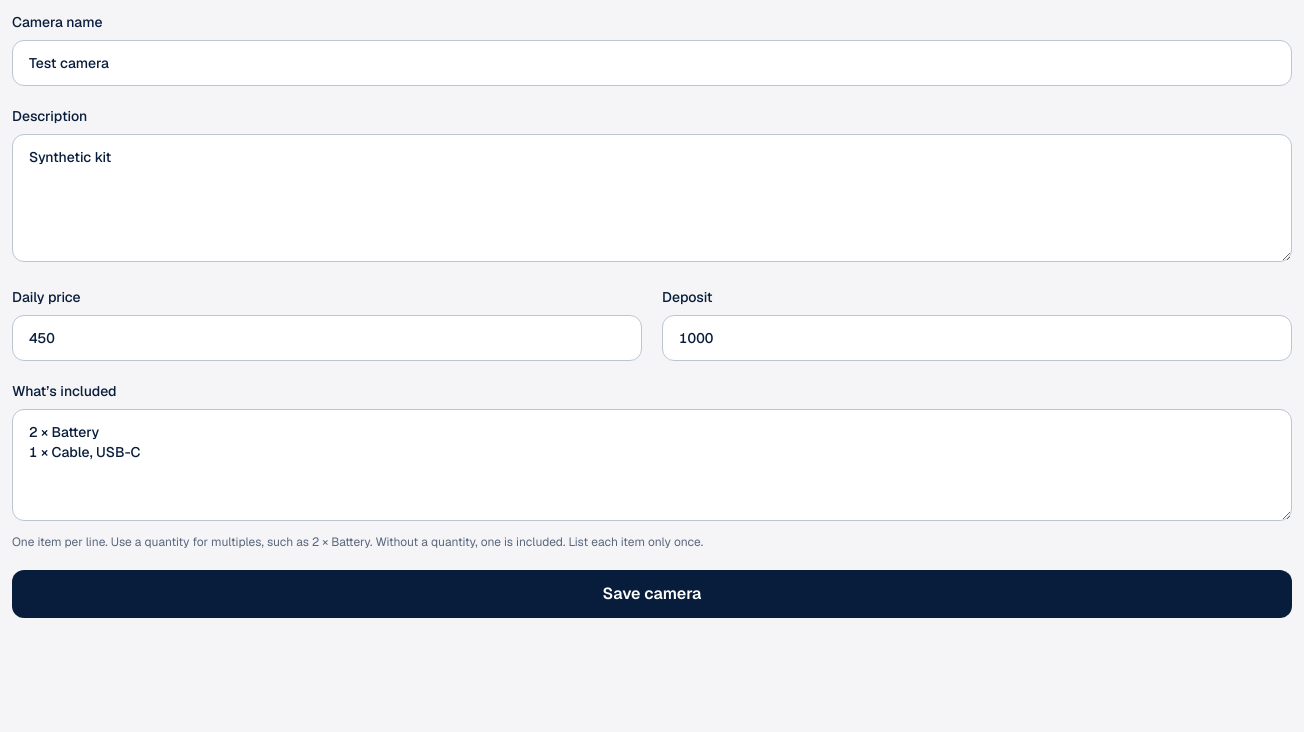
Test: preserves kit quantities through the real save action when only the price changes
Replace the text in the number field labelled "Daily price" with "500" at {"x": 327, "y": 338}, box [12,315,642,361]
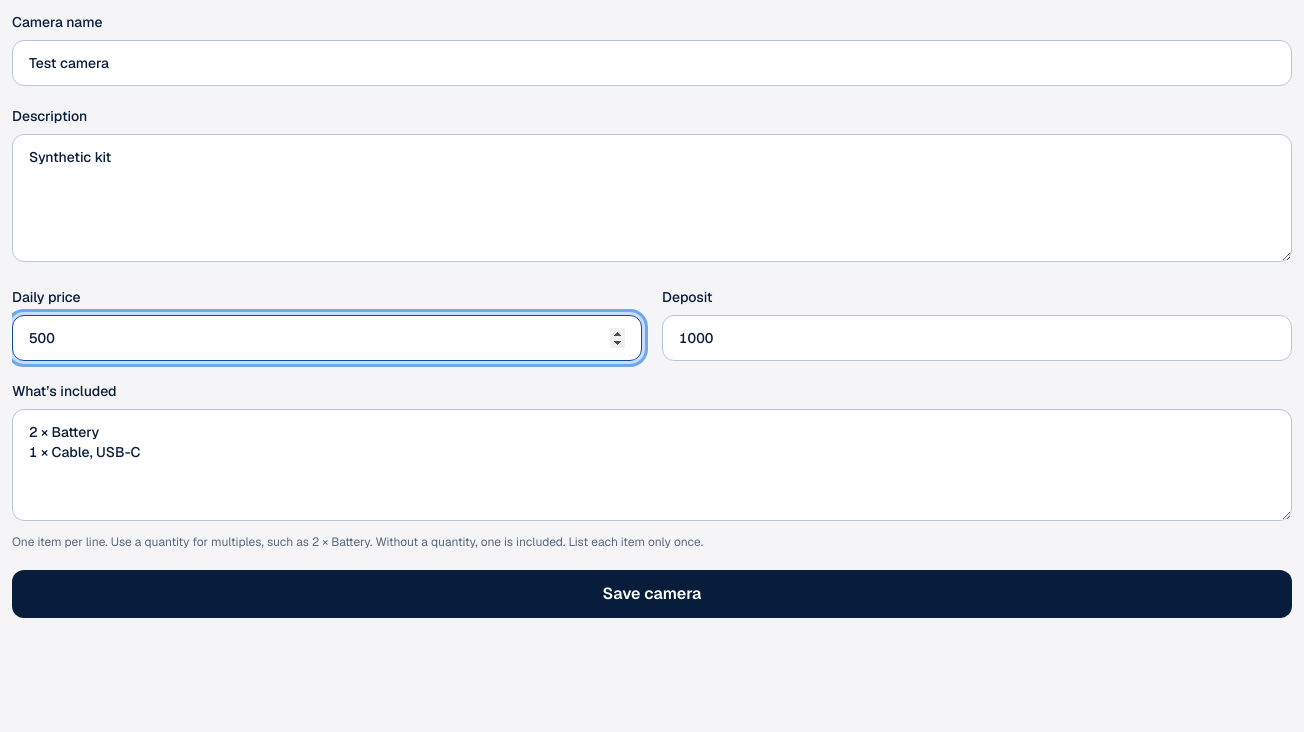
Click the button "Save camera" at {"x": 652, "y": 594}, box [12,570,1292,618]
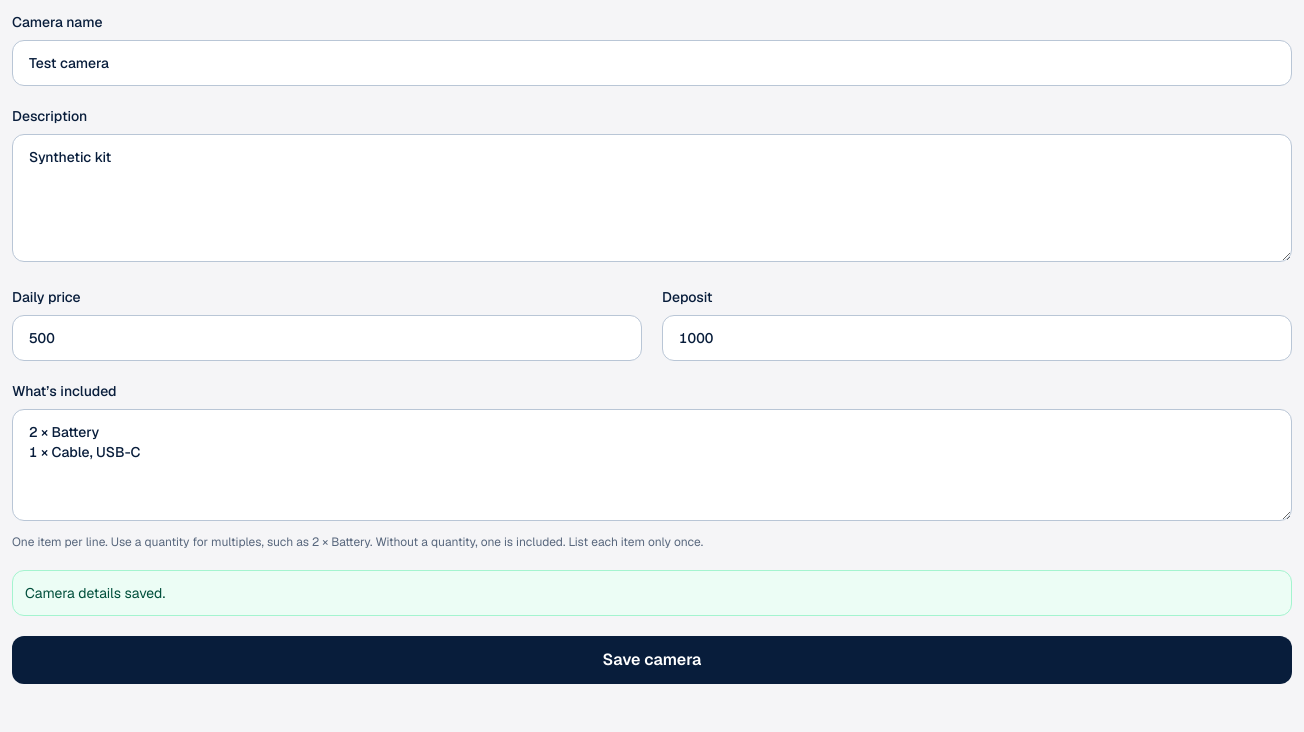
Now the message reads "Camera details saved.", box [25,584,165,602]
Replace the text in the number field labelled "Daily price" with "600" at {"x": 327, "y": 338}, box [12,315,642,361]
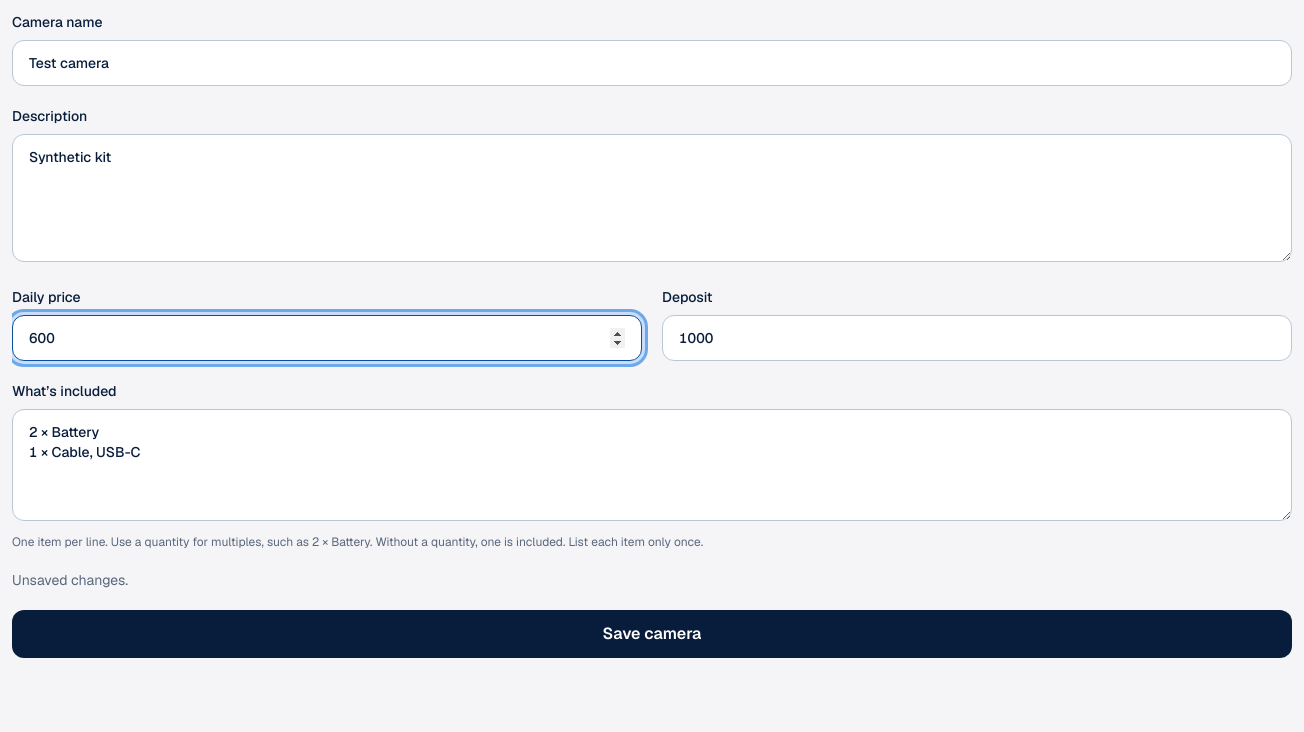
Now the message reads "Unsaved changes.", box [12,571,128,589]
Click the button "Save camera" at {"x": 652, "y": 634}, box [12,610,1292,658]
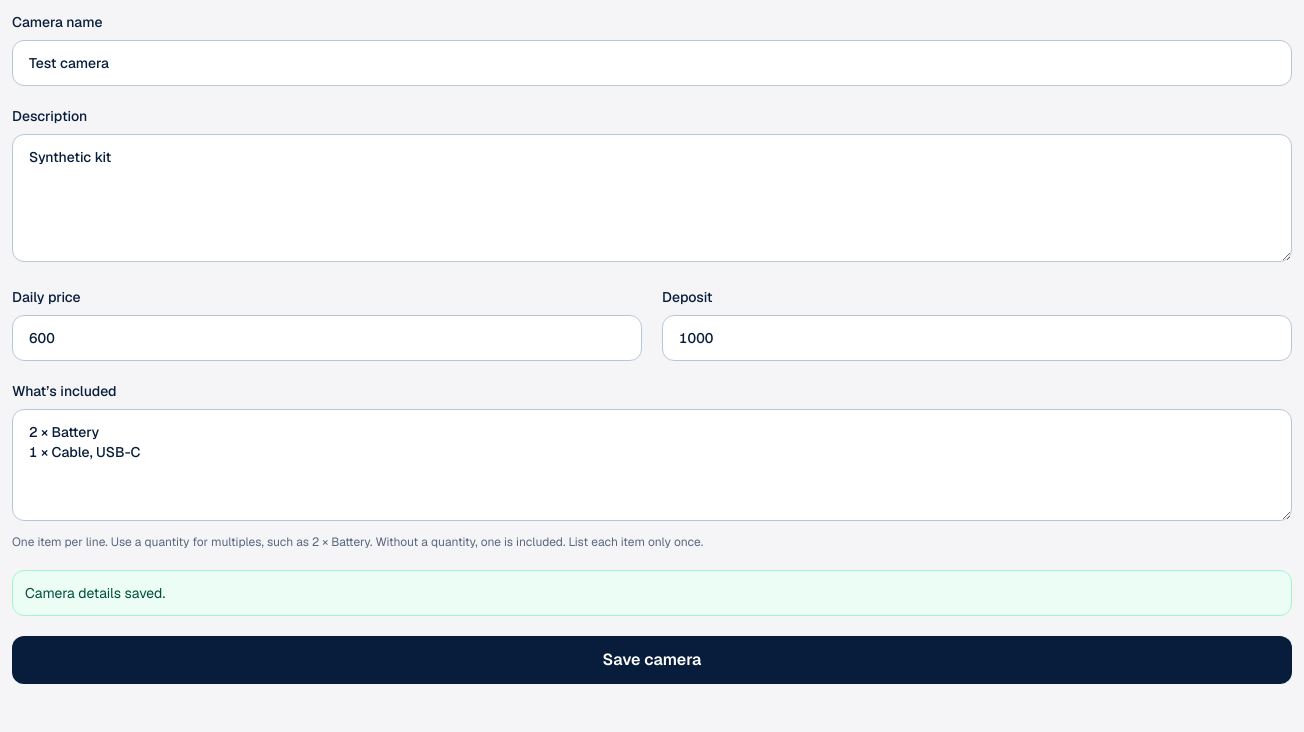
Now the message reads "Camera details saved.", box [25,584,165,602]
